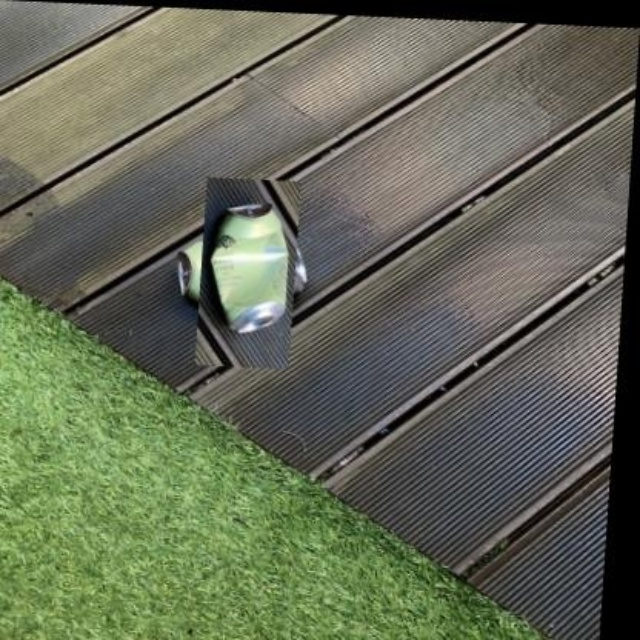trash: (197, 178, 303, 368)
